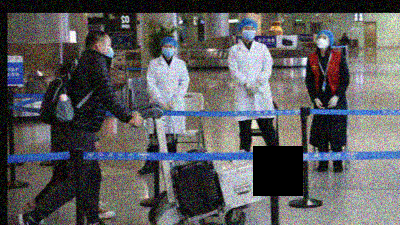with_mask: (241, 25, 255, 40), (103, 40, 114, 58), (315, 34, 329, 48), (161, 44, 174, 58)
